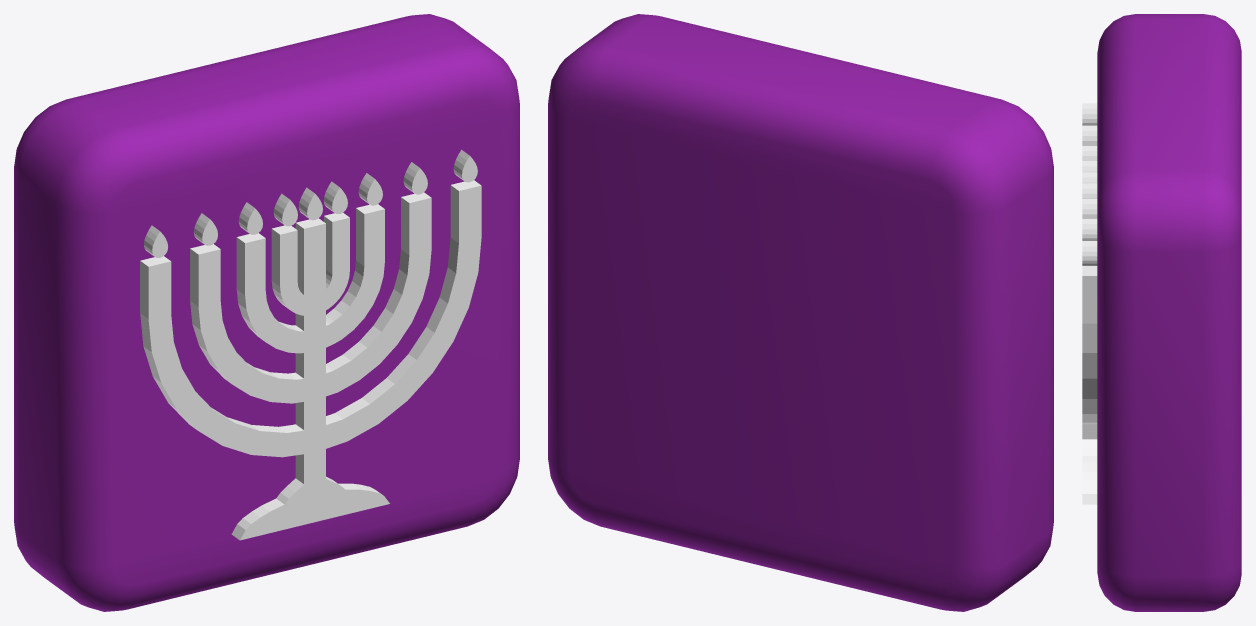
Rendered from menorah.glb.
3 renders of one model, left to right at view 1: azimuth 30°, elevation 25°; view 2: azimuth 150°, elevation 25°; view 3: azimuth 270°, elevation 25°, orthographic. The views are drawn at different scales.
Parts seen in each view (by area): view 1: Cube.6396; view 2: Cube.6396; view 3: Cube.6396.
Boxes of the visible parts, left/top/right/bottom form: Cube.6396: left=14, top=14, right=519, bottom=611; Cube.6396: left=548, top=14, right=1053, bottom=611; Cube.6396: left=1082, top=14, right=1241, bottom=611.
Bounding box in the file's own units: 2.2 × 2.2 × 0.73.
1 material, 1 textured.
